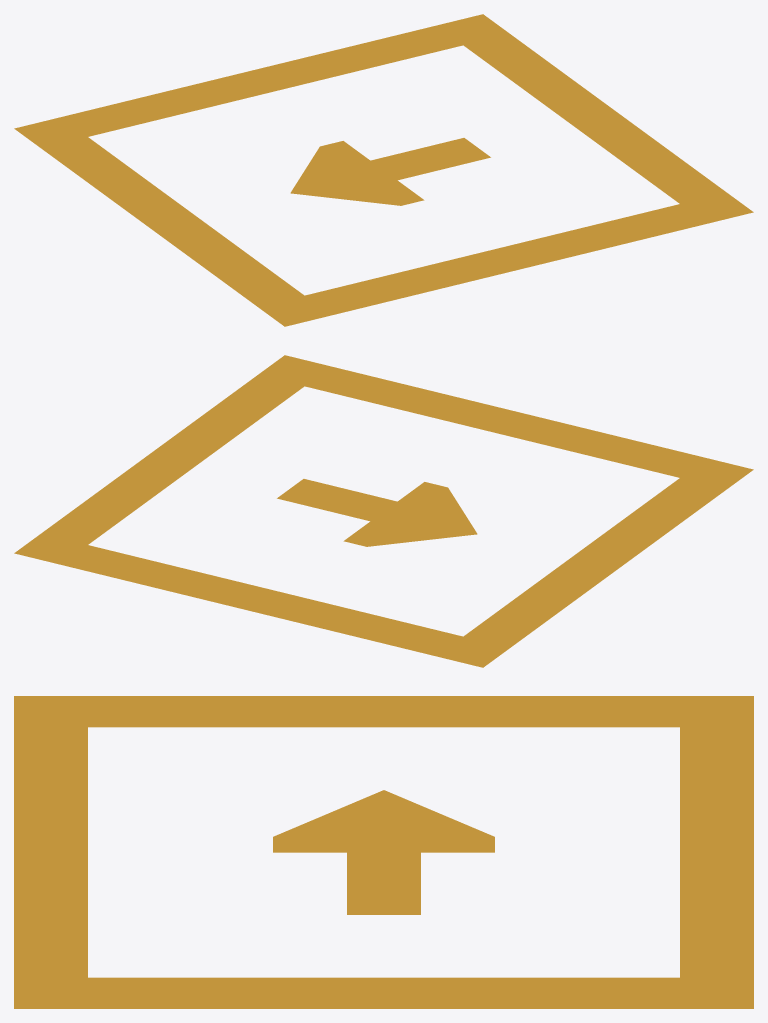
The model's file is pk-arrow.glb.
3 renders of one model, top to bottom at view 1: azimuth 30°, elevation 25°; view 2: azimuth 150°, elevation 25°; view 3: azimuth 270°, elevation 25°, orthographic. The views are drawn at different scales.
Parts seen in each view (by area): view 1: indicator-special-arrow; view 2: indicator-special-arrow; view 3: indicator-special-arrow.
Boxes of the visible parts, x1,y1,x2,y2 form: indicator-special-arrow: [14, 14, 753, 326]; indicator-special-arrow: [14, 355, 753, 667]; indicator-special-arrow: [14, 696, 753, 1008].
Size of the model in its own units: 1 by 0 by 1.
